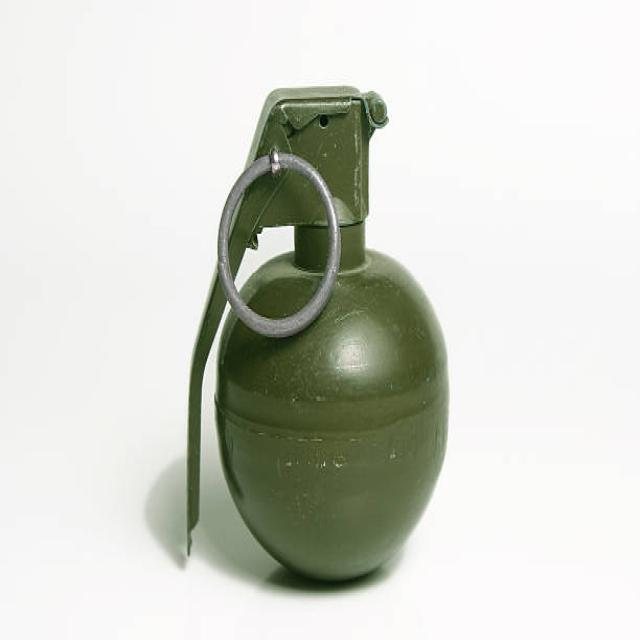grenade: (186, 79, 453, 595)
